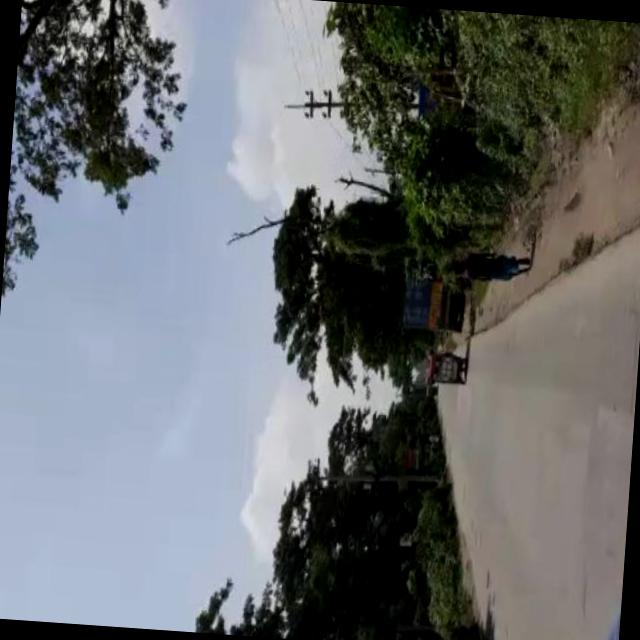motorcycle: (427, 349, 464, 380)
truck: (399, 270, 458, 332)
